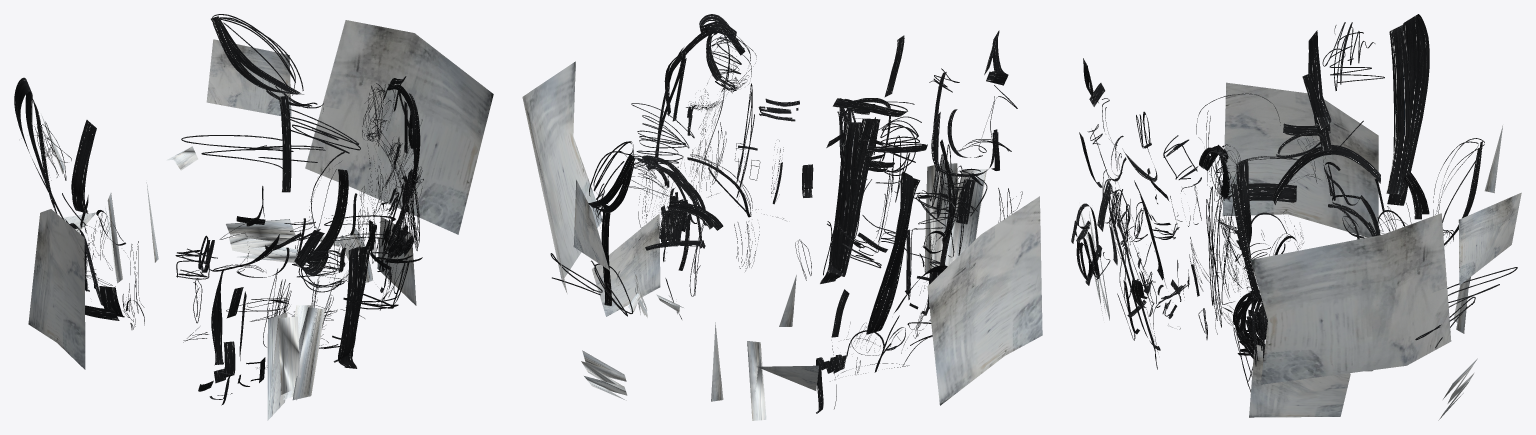
The model's file is systemeundmenschen.glb.
3 renders of one model, left to right at view 1: azimuth 30°, elevation 25°; view 2: azimuth 150°, elevation 25°; view 3: azimuth 270°, elevation 25°, orthographic. The views are drawn at different scales.
Parts seen in each view (by area): view 1: white, black; view 2: white, black; view 3: white, black.
Part boxes in pixels (<box>): white: <box>28,20,493,420</box>; black: <box>14,14,423,405</box>; white: <box>522,61,1042,420</box>; black: <box>550,14,1022,413</box>; white: <box>1079,82,1521,420</box>; black: <box>1071,14,1517,392</box>.
Size of the model in its own units: 11.08 by 6.69 by 10.03.
2 materials, 2 textured.
